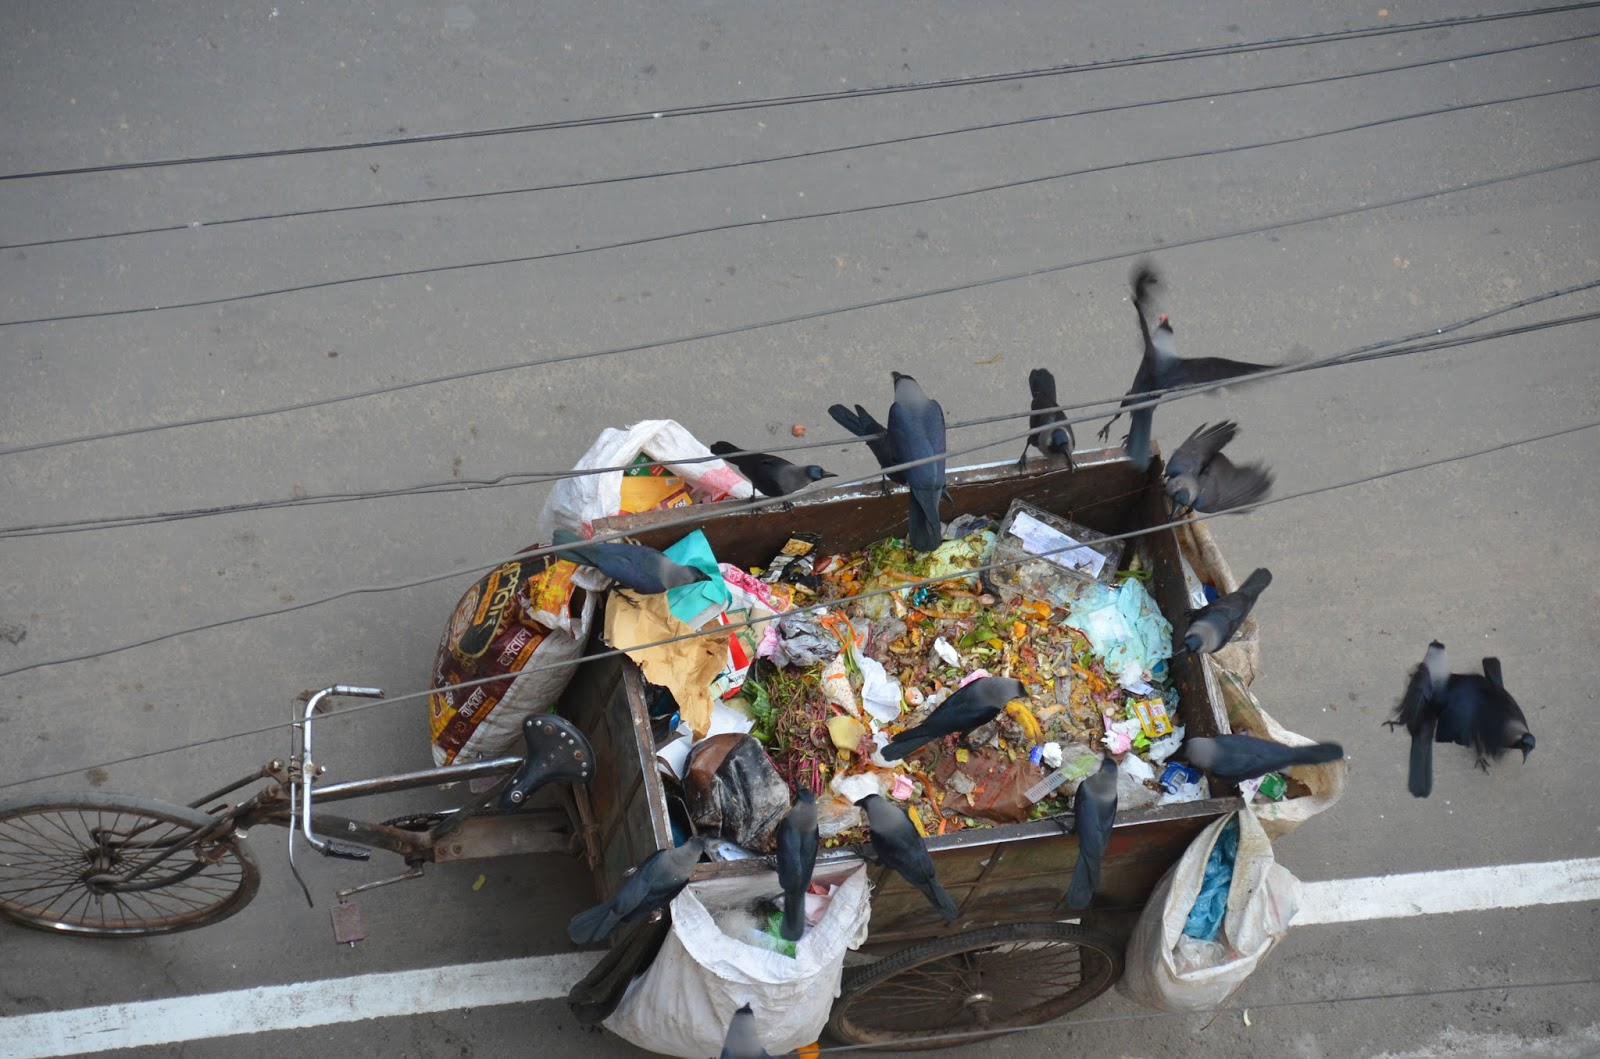garbagevan: (1, 435, 1353, 1059)
